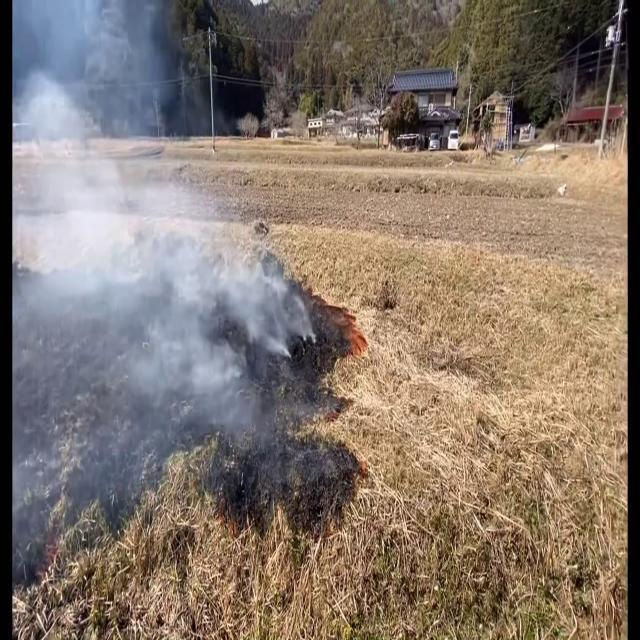Smoke: (15, 2, 309, 416)
